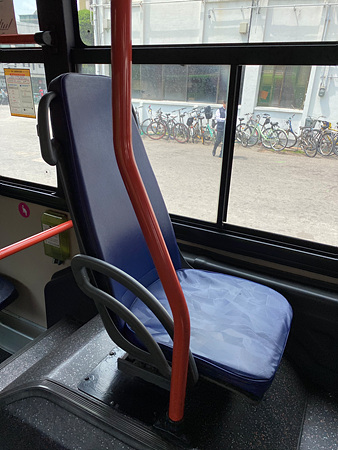seat: (53, 72, 293, 389)
